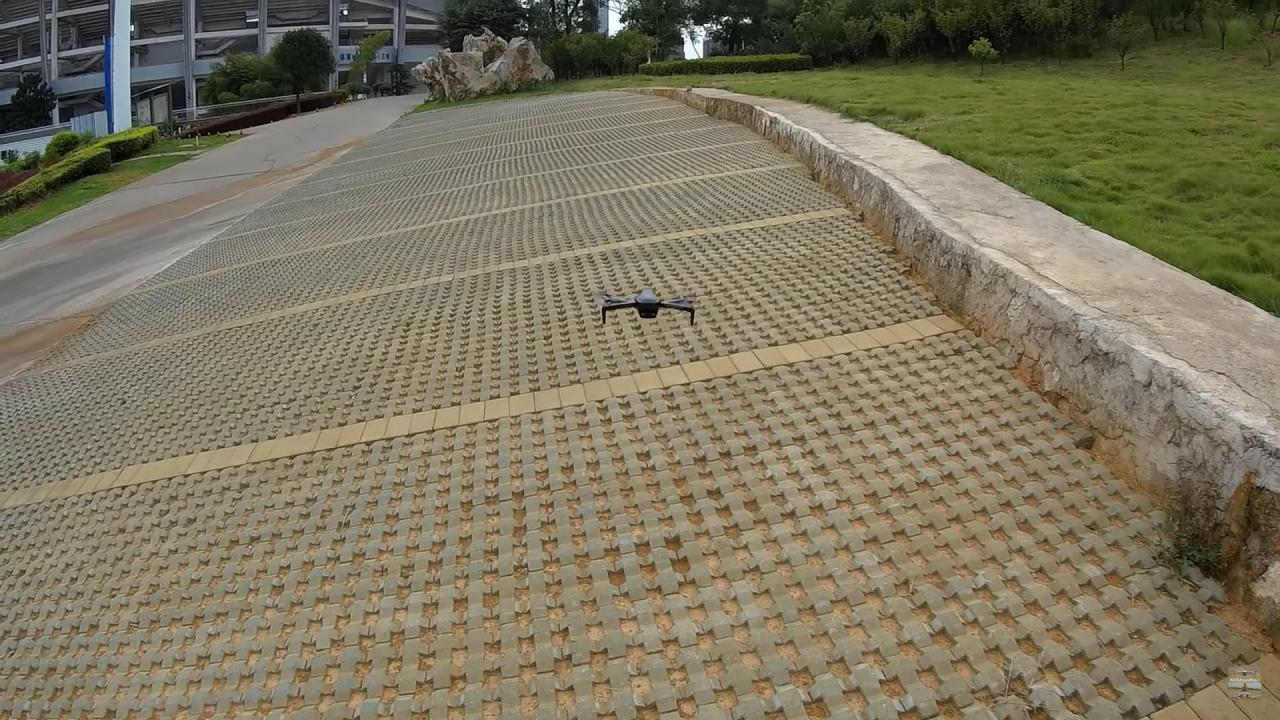Drone: (588, 280, 707, 334)
